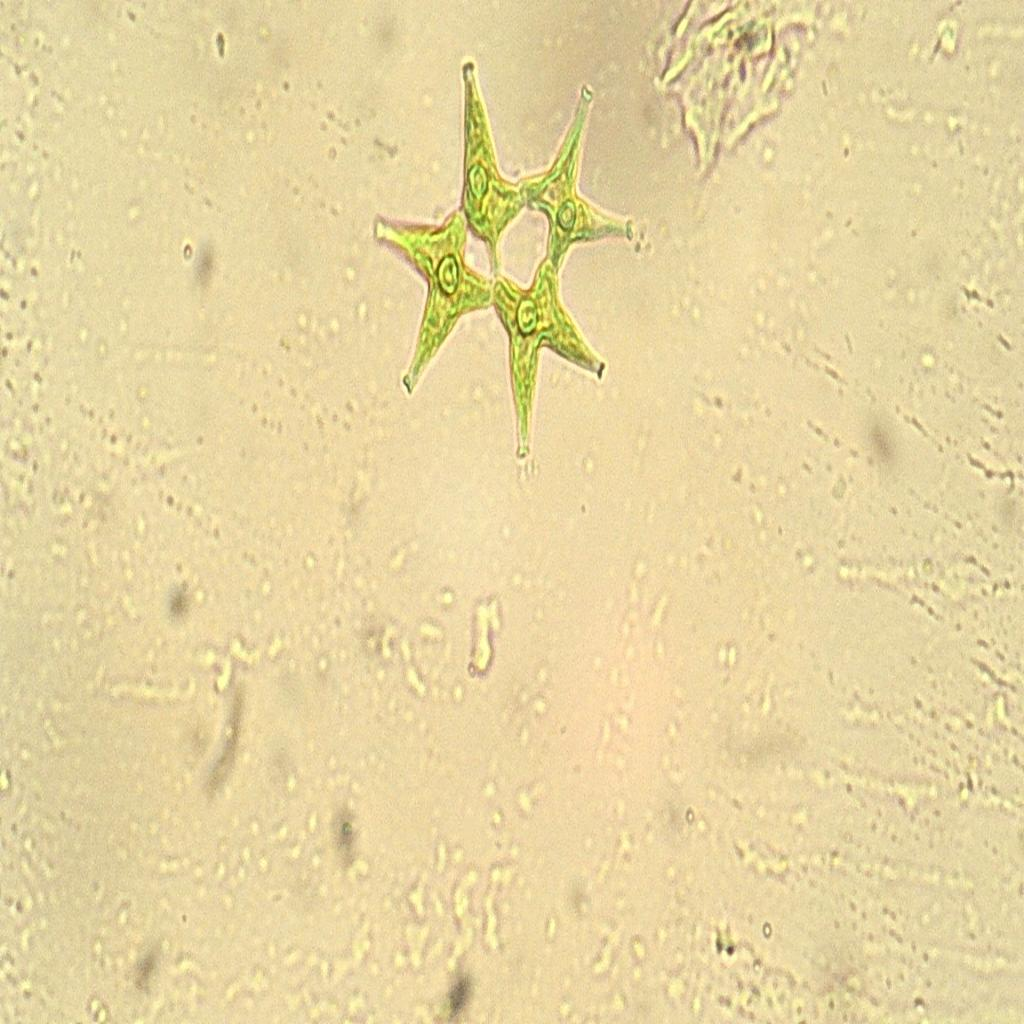Pediastrum_75FO: (358, 52, 660, 476)
